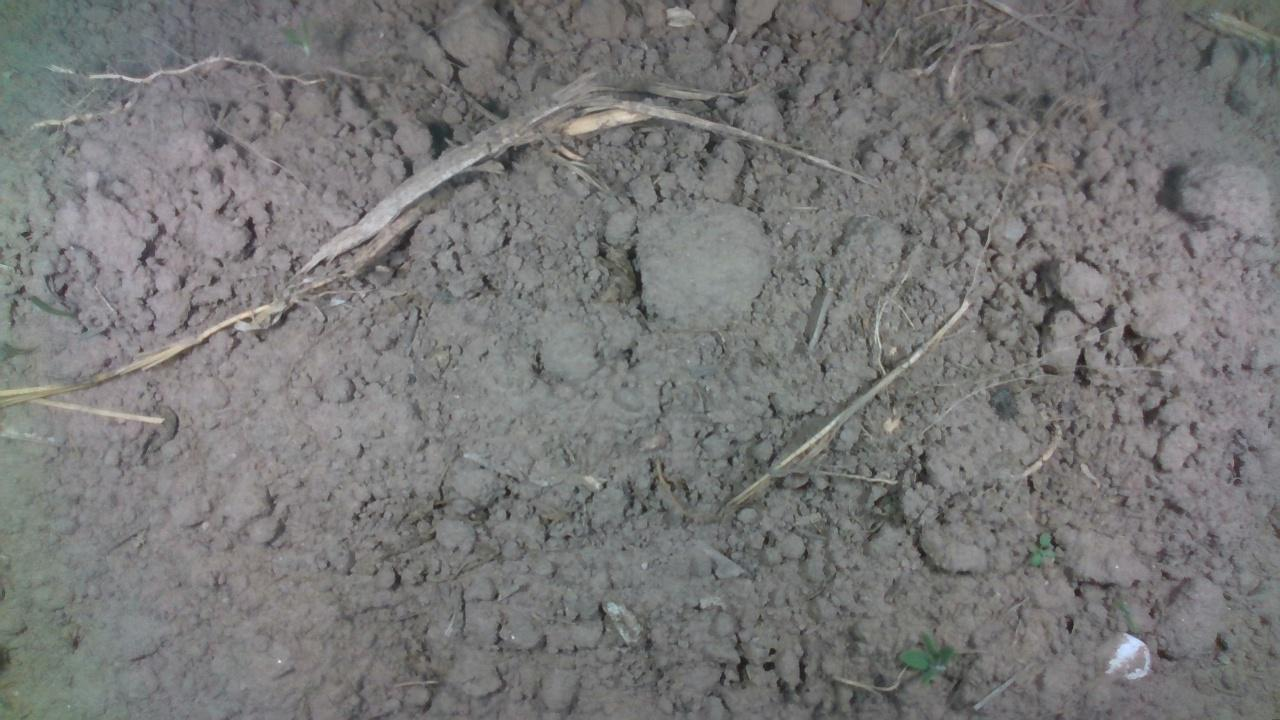weed: (894, 627, 958, 688), (1022, 529, 1058, 567)
